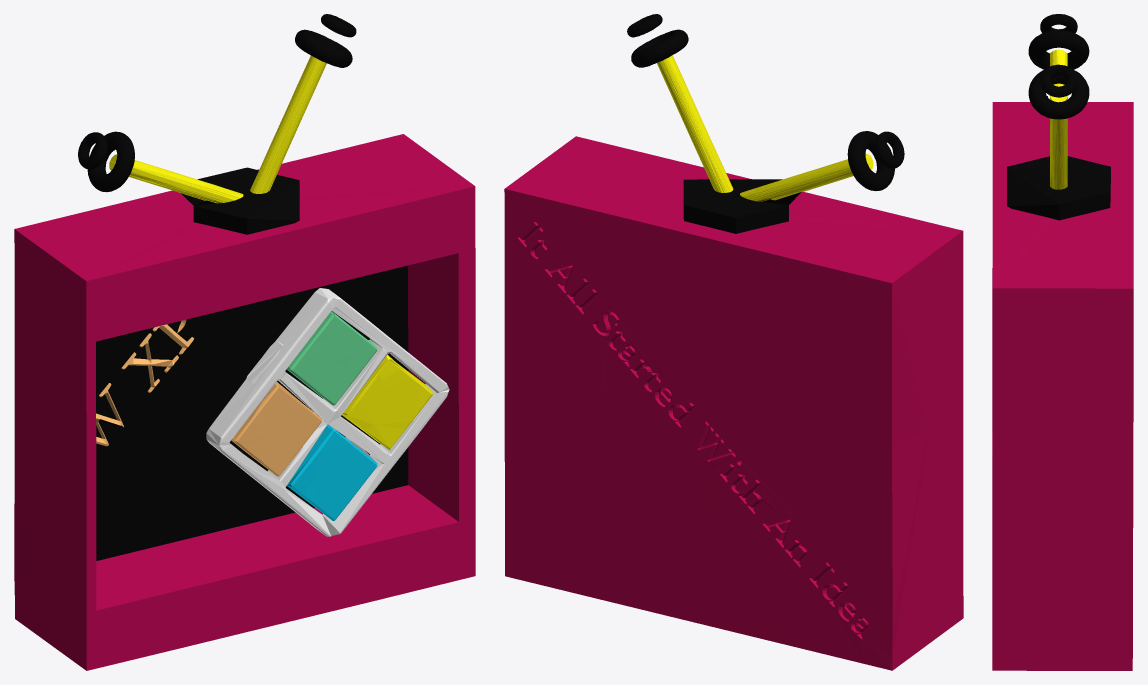
The model's file is Windows XP.fbx.
3 renders of one model, left to right at view 1: azimuth 30°, elevation 25°; view 2: azimuth 150°, elevation 25°; view 3: azimuth 270°, elevation 25°, orthographic.
Parts seen in each view (by area): view 1: Origin; view 2: Origin; view 3: Origin.
Part boxes in pixels (x1,y1,x2,y2): Origin: [14, 14, 475, 670]; Origin: [504, 14, 963, 670]; Origin: [992, 14, 1133, 670].
Bounding box in the file's own units: 524 × 722 × 168.
